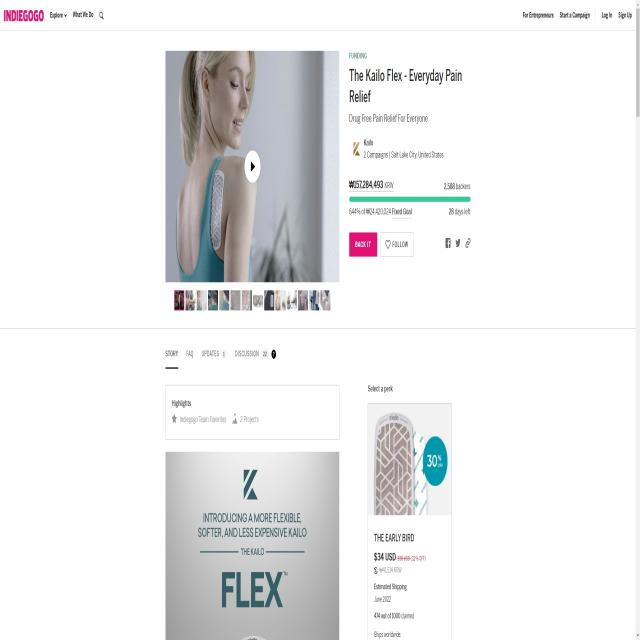menu-bar: (522, 6, 634, 24)
side-panel: (369, 381, 458, 639)
tab-bar: (161, 339, 280, 372), (50, 7, 106, 25)
